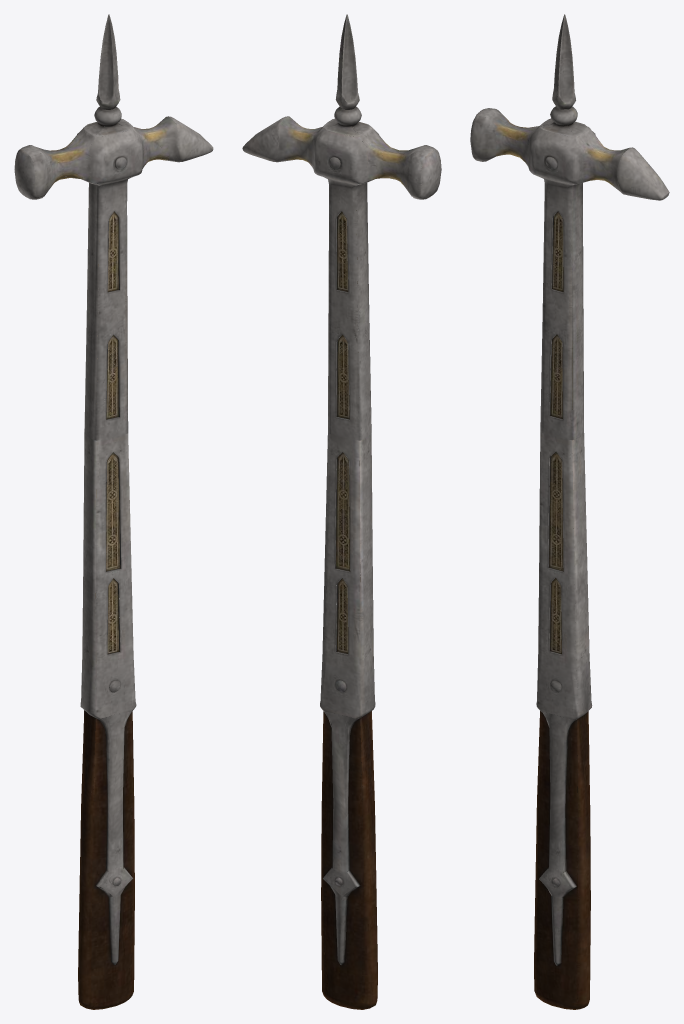
File: ornate_war_hammer.glb
The picture shows the model from 3 angles, left to right: view 1: azimuth 30°, elevation 25°; view 2: azimuth 150°, elevation 25°; view 3: azimuth 330°, elevation 25°; orthographic projection.
Parts seen in each view (by area): view 1: ornate_war_hammer; view 2: ornate_war_hammer; view 3: ornate_war_hammer.
Boxes of the visible parts, bbox=[...] form: ornate_war_hammer: bbox=[14, 14, 213, 1009]; ornate_war_hammer: bbox=[242, 14, 441, 1009]; ornate_war_hammer: bbox=[470, 14, 669, 1009].
Bounding box in the file's own units: 0.144 × 0.7111 × 0.0346.
Materials: 1 (1 with a texture image).
